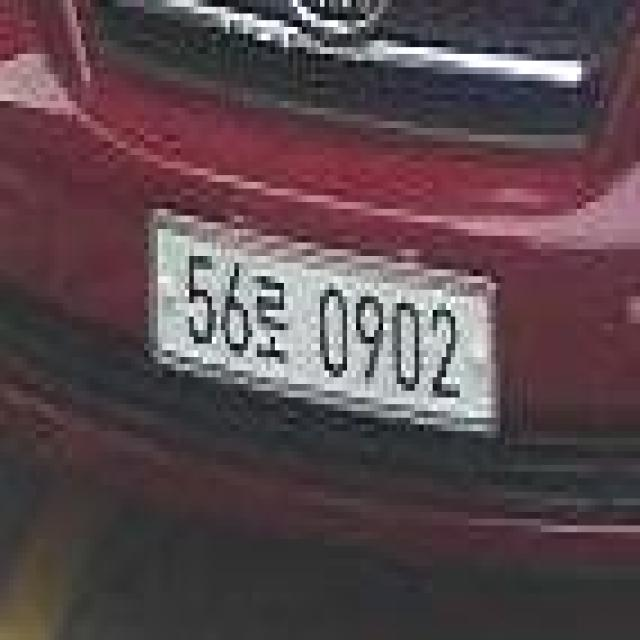illegal_plate: (143, 208, 502, 454)
